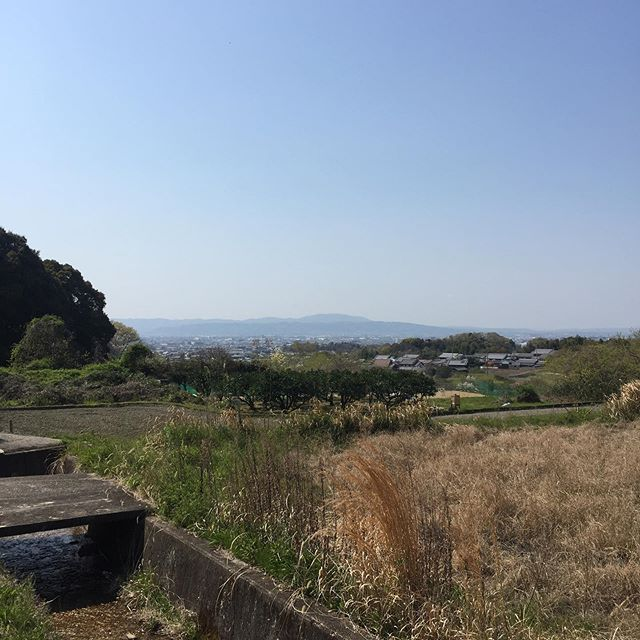grass: (166, 420, 640, 640)
sky: (30, 1, 640, 284)
tree: (1, 220, 117, 361)
vegetation: (128, 325, 635, 403)
